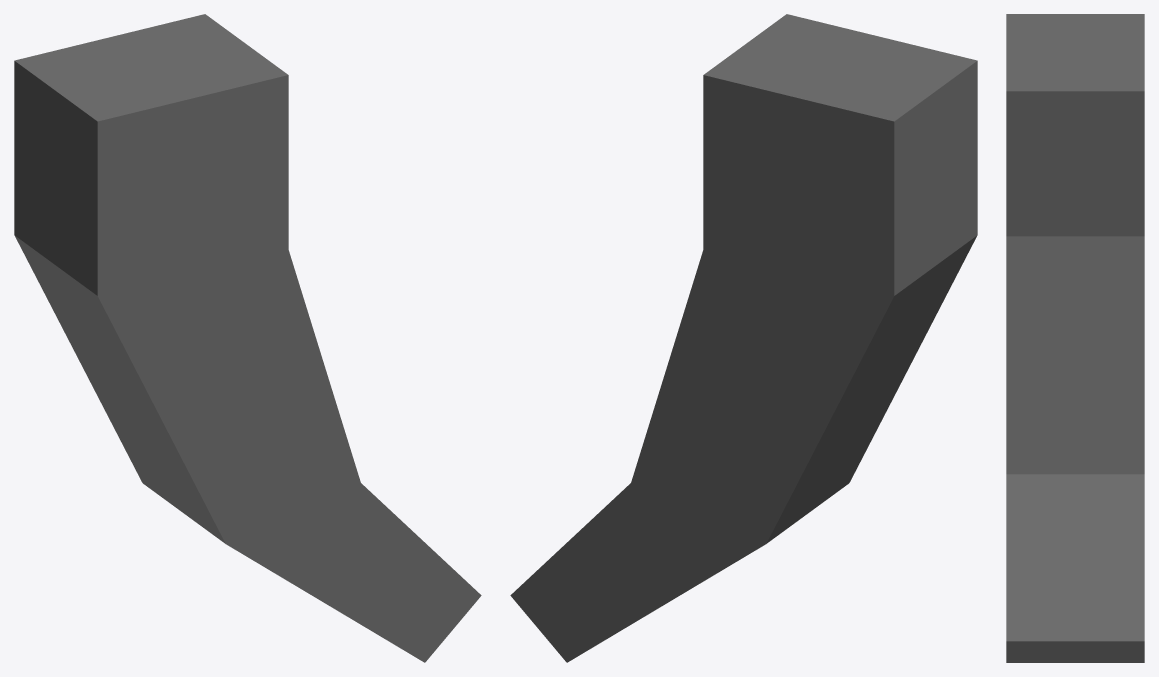
File: Shotgun1_03_4.fbx
3 renders of one model, left to right at view 1: azimuth 30°, elevation 25°; view 2: azimuth 150°, elevation 25°; view 3: azimuth 270°, elevation 25°, orthographic. The views are drawn at different scales.
Parts seen in each view (by area): view 1: Shotgun1_03_4; view 2: Shotgun1_03_4; view 3: Shotgun1_03_4.
Boxes of the visible parts, x1,y1,x2,y2 form: Shotgun1_03_4: (14,14,481,662); Shotgun1_03_4: (510,14,977,662); Shotgun1_03_4: (1006,14,1144,662).
Size of the model in its own units: 0.0181 by 0.028 by 0.00681.
